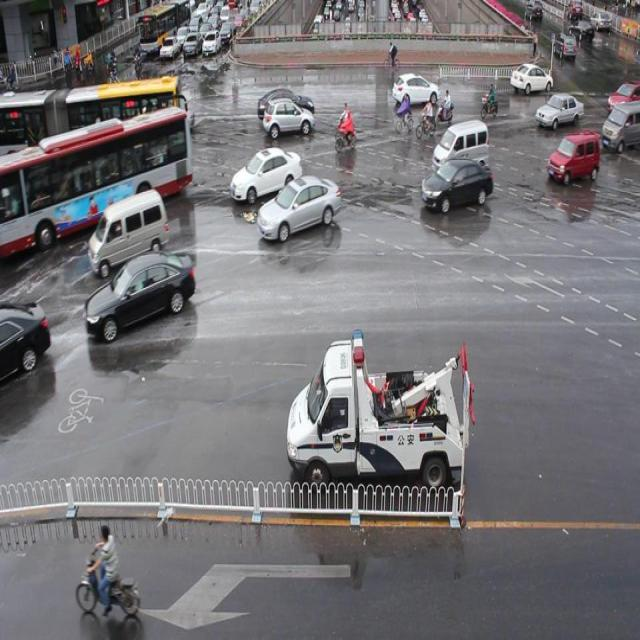bus: (286, 327, 473, 497)
car: (84, 250, 195, 338), (257, 176, 340, 238), (0, 296, 52, 384), (229, 148, 302, 200), (419, 158, 492, 208), (544, 133, 598, 182), (262, 98, 314, 134), (257, 89, 314, 121), (535, 92, 582, 128), (391, 73, 439, 107), (508, 61, 551, 91)
truck: (88, 187, 169, 275), (432, 121, 488, 175), (599, 101, 640, 150)
van: (1, 109, 191, 251), (1, 78, 183, 168)
